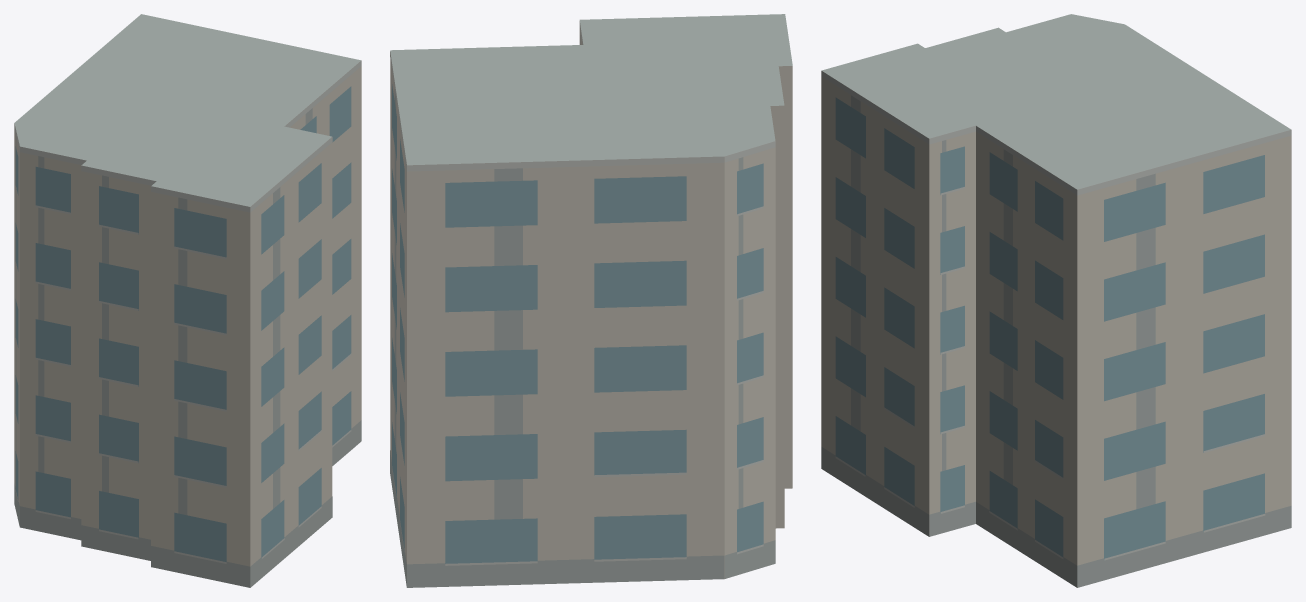
File: survey-upis-32587214.glb
The picture shows the model from 3 angles, left to right: view 1: azimuth 30°, elevation 25°; view 2: azimuth 150°, elevation 25°; view 3: azimuth 270°, elevation 25°; orthographic projection. The views are drawn at different scales.
Parts seen in each view (by area): view 1: survey-upis-32587214.tmp; view 2: survey-upis-32587214.tmp; view 3: survey-upis-32587214.tmp.
Part boxes in pixels (left/top/right/bottom): survey-upis-32587214.tmp: left=14, top=14, right=361, bottom=587; survey-upis-32587214.tmp: left=390, top=14, right=792, bottom=587; survey-upis-32587214.tmp: left=821, top=14, right=1291, bottom=587.
Bounding box in the file's own units: 15.62 × 16.5 × 17.67.
